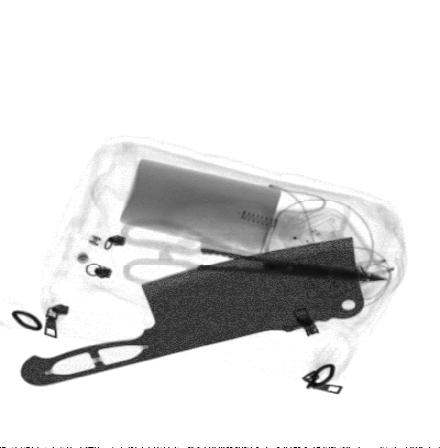Knife: (20, 237, 365, 386)
Scissors: (119, 220, 389, 288)
